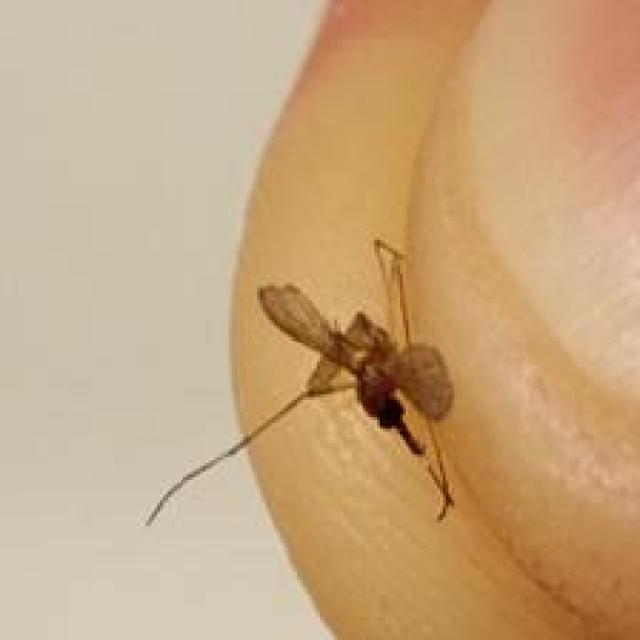Culex: (144, 236, 459, 527)
